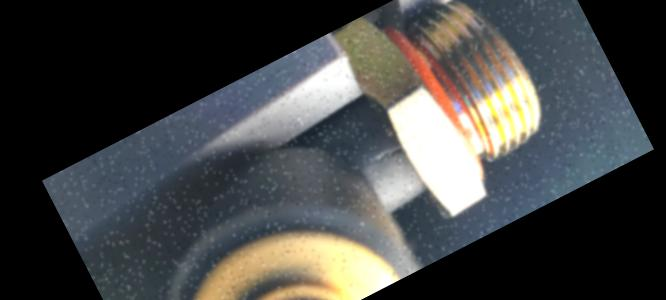craze: (368, 138, 406, 167)
